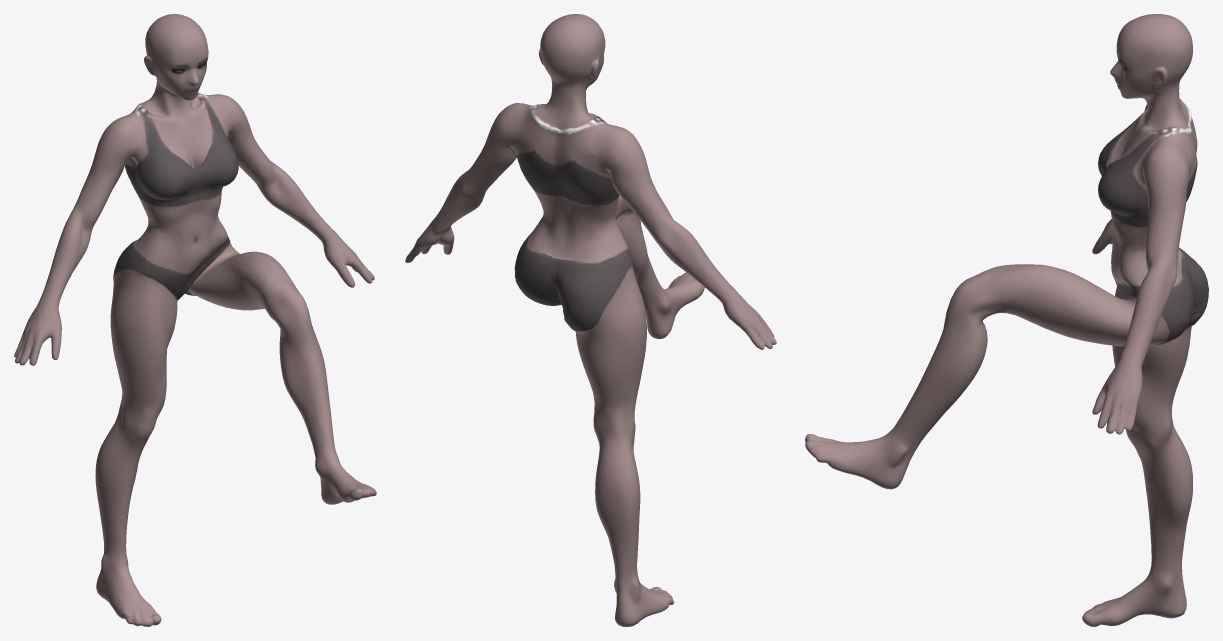
Rendered from coordinated-ThighR-90.glb.
3 renders of one model, left to right at view 1: azimuth 30°, elevation 25°; view 2: azimuth 150°, elevation 25°; view 3: azimuth 270°, elevation 25°, orthographic. The views are drawn at different scales.
Visible parts, largest first — view 1: coordinated-ThighR-90; view 2: coordinated-ThighR-90; view 3: coordinated-ThighR-90.
Boxes of the visible parts, box(x1,y1,x2,y2) form: coordinated-ThighR-90: box(14, 14, 376, 626); coordinated-ThighR-90: box(405, 14, 776, 626); coordinated-ThighR-90: box(805, 14, 1208, 626).
Bounding box in the file's own units: 0.6509 × 1 × 0.5769.
Materials: 1 (1 with a texture image).
